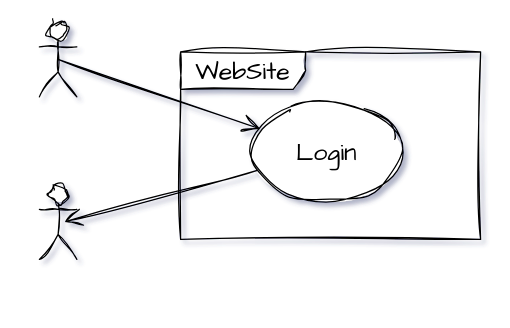
Image size: 510x328. Some labels were removed from this diagram. Each missing label, with the centre of its shape:
"User" goes at point 57,221.
"Visitor" goes at point 57,59.
